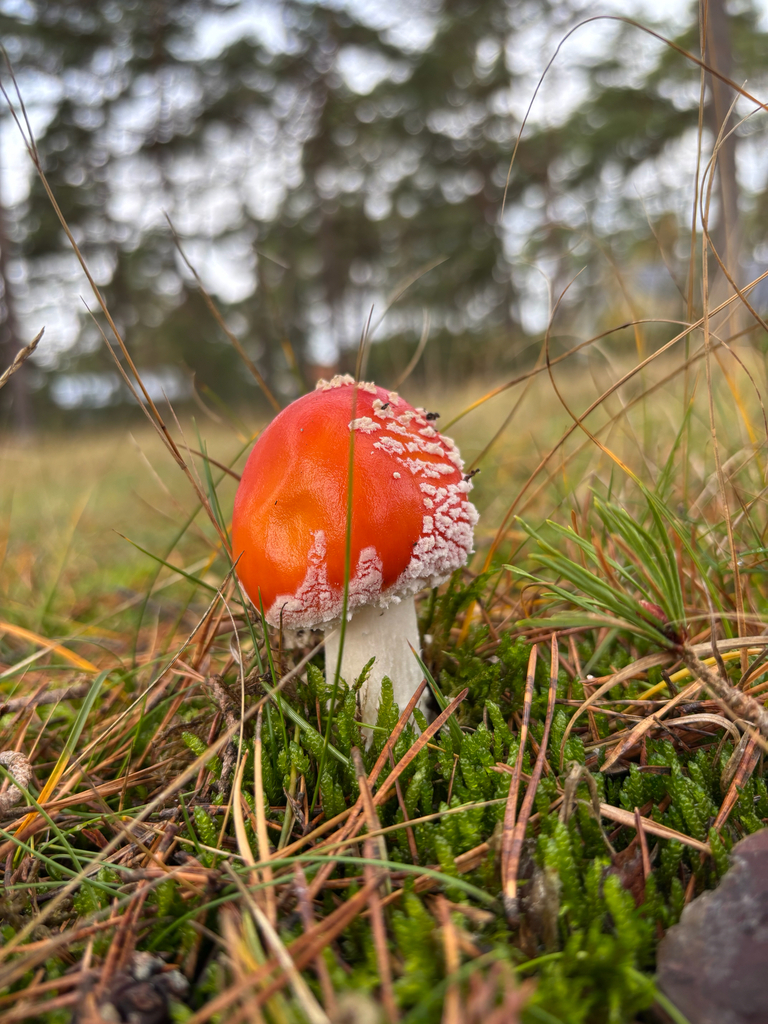Cap: (232, 377, 475, 628)
Stem: (340, 594, 421, 721), (325, 633, 339, 670)
